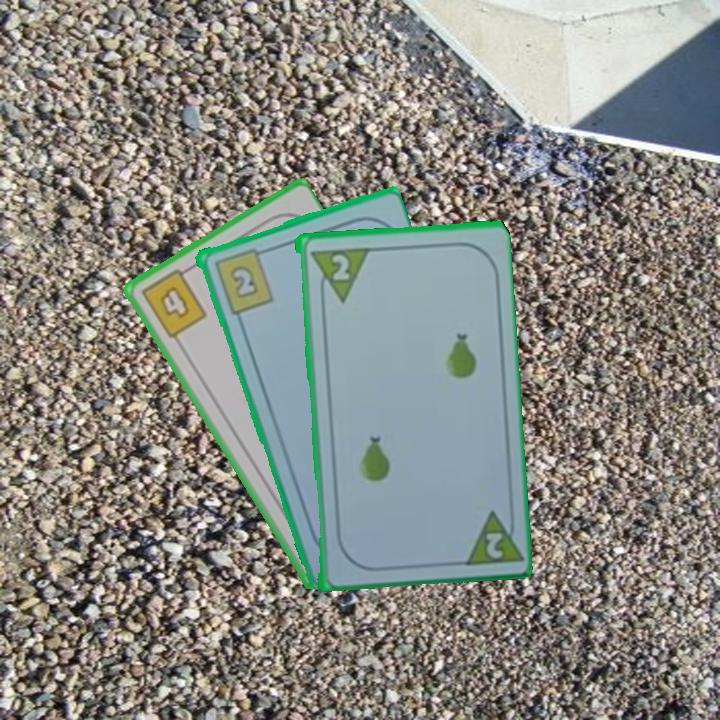2b: (210, 244, 276, 317)
2p: (457, 504, 522, 568), (327, 250, 352, 283)
4b: (137, 263, 210, 342)
